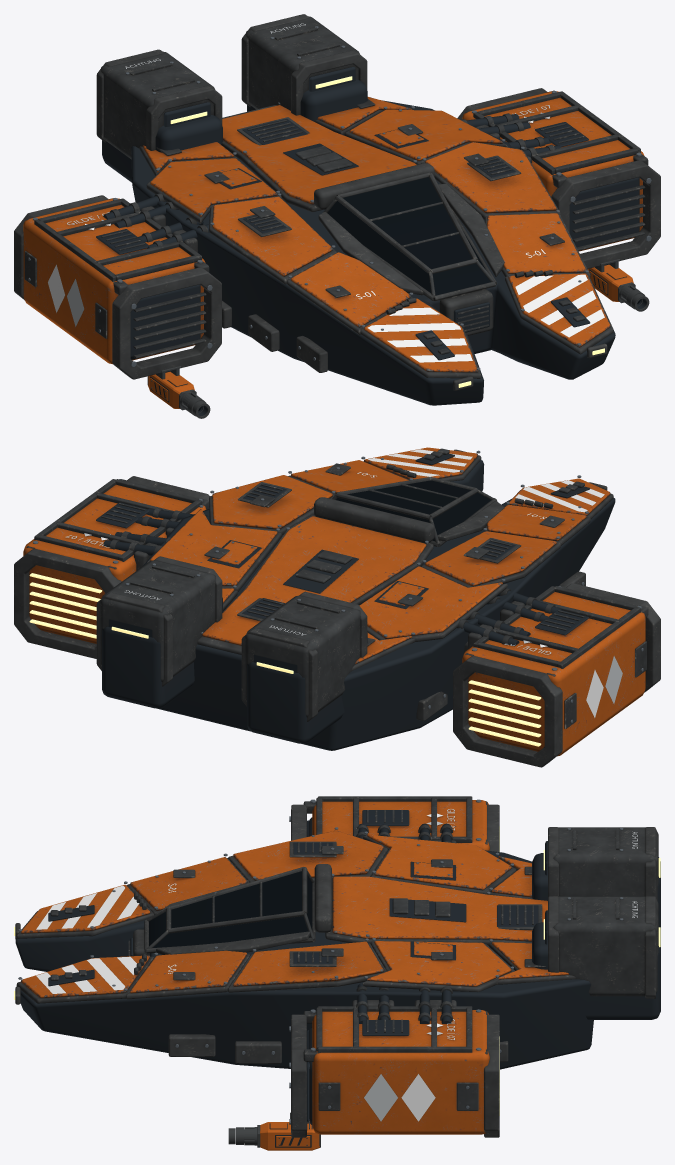
File: saturn-starter-original.glb
The picture shows the model from 3 angles, top to bottom: view 1: azimuth 30°, elevation 25°; view 2: azimuth 150°, elevation 25°; view 3: azimuth 270°, elevation 25°; orthographic projection. The views are drawn at different scales.
Parts seen in each view (by area): view 1: Hull_saturn_Armor, Hull_saturn_Recess, Hull_saturn_EdgeGuards, Hull_saturn_BrushedAlloy, Hull_saturn_SmokedOptics, Hull_saturn_Caution, Laser_Port_Geometry, Laser_Starboard_Geometry, Hull_saturn_Fasteners, Hull_saturn_DecalPale; view 2: Hull_saturn_Armor, Hull_saturn_Recess, Hull_saturn_EdgeGuards, Hull_saturn_BrushedAlloy, Hull_saturn_EngineLight, Hull_saturn_SmokedOptics, Hull_saturn_Caution, Hull_saturn_DecalPale, Hull_saturn_Fasteners; view 3: Hull_saturn_Armor, Hull_saturn_Recess, Hull_saturn_BrushedAlloy, Hull_saturn_EdgeGuards, Hull_saturn_SmokedOptics, Hull_saturn_Caution, Laser_Starboard_Geometry, Hull_saturn_DecalPale, Hull_saturn_Fasteners.
Boxes of the visible parts, bbox=[...] form: Hull_saturn_Armor: bbox=[23, 91, 644, 372]; Hull_saturn_Recess: bbox=[96, 67, 639, 405]; Hull_saturn_EdgeGuards: bbox=[14, 14, 660, 390]; Hull_saturn_BrushedAlloy: bbox=[24, 16, 648, 358]; Hull_saturn_SmokedOptics: bbox=[327, 177, 490, 295]; Hull_saturn_Caution: bbox=[48, 116, 604, 362]; Laser_Port_Geometry: bbox=[147, 366, 210, 418]; Laser_Starboard_Geometry: bbox=[587, 259, 649, 311]; Hull_saturn_Fasteners: bbox=[28, 26, 651, 370]; Hull_saturn_DecalPale: bbox=[67, 23, 549, 326]; Hull_saturn_Armor: bbox=[23, 447, 645, 756]; Hull_saturn_Recess: bbox=[96, 451, 615, 750]; Hull_saturn_EdgeGuards: bbox=[14, 449, 660, 767]; Hull_saturn_BrushedAlloy: bbox=[26, 448, 648, 728]; Hull_saturn_EngineLight: bbox=[29, 573, 541, 746]; Hull_saturn_SmokedOptics: bbox=[336, 480, 490, 540]; Hull_saturn_Caution: bbox=[101, 449, 604, 717]; Hull_saturn_DecalPale: bbox=[65, 530, 622, 703]; Hull_saturn_Fasteners: bbox=[33, 450, 643, 723]; Hull_saturn_Armor: bbox=[21, 800, 568, 1134]; Hull_saturn_Recess: bbox=[15, 810, 660, 1124]; Hull_saturn_BrushedAlloy: bbox=[50, 796, 658, 1110]; Hull_saturn_EdgeGuards: bbox=[15, 804, 655, 1137]; Hull_saturn_SmokedOptics: bbox=[149, 871, 312, 947]; Hull_saturn_Caution: bbox=[36, 813, 442, 1121]; Laser_Starboard_Geometry: bbox=[228, 1112, 320, 1150]; Hull_saturn_DecalPale: bbox=[364, 809, 637, 1121]; Hull_saturn_Fasteners: bbox=[18, 799, 623, 1124].
Bounding box in the file's own units: 7.87 × 2.38 × 8.29.
11 materials, 6 textured.
